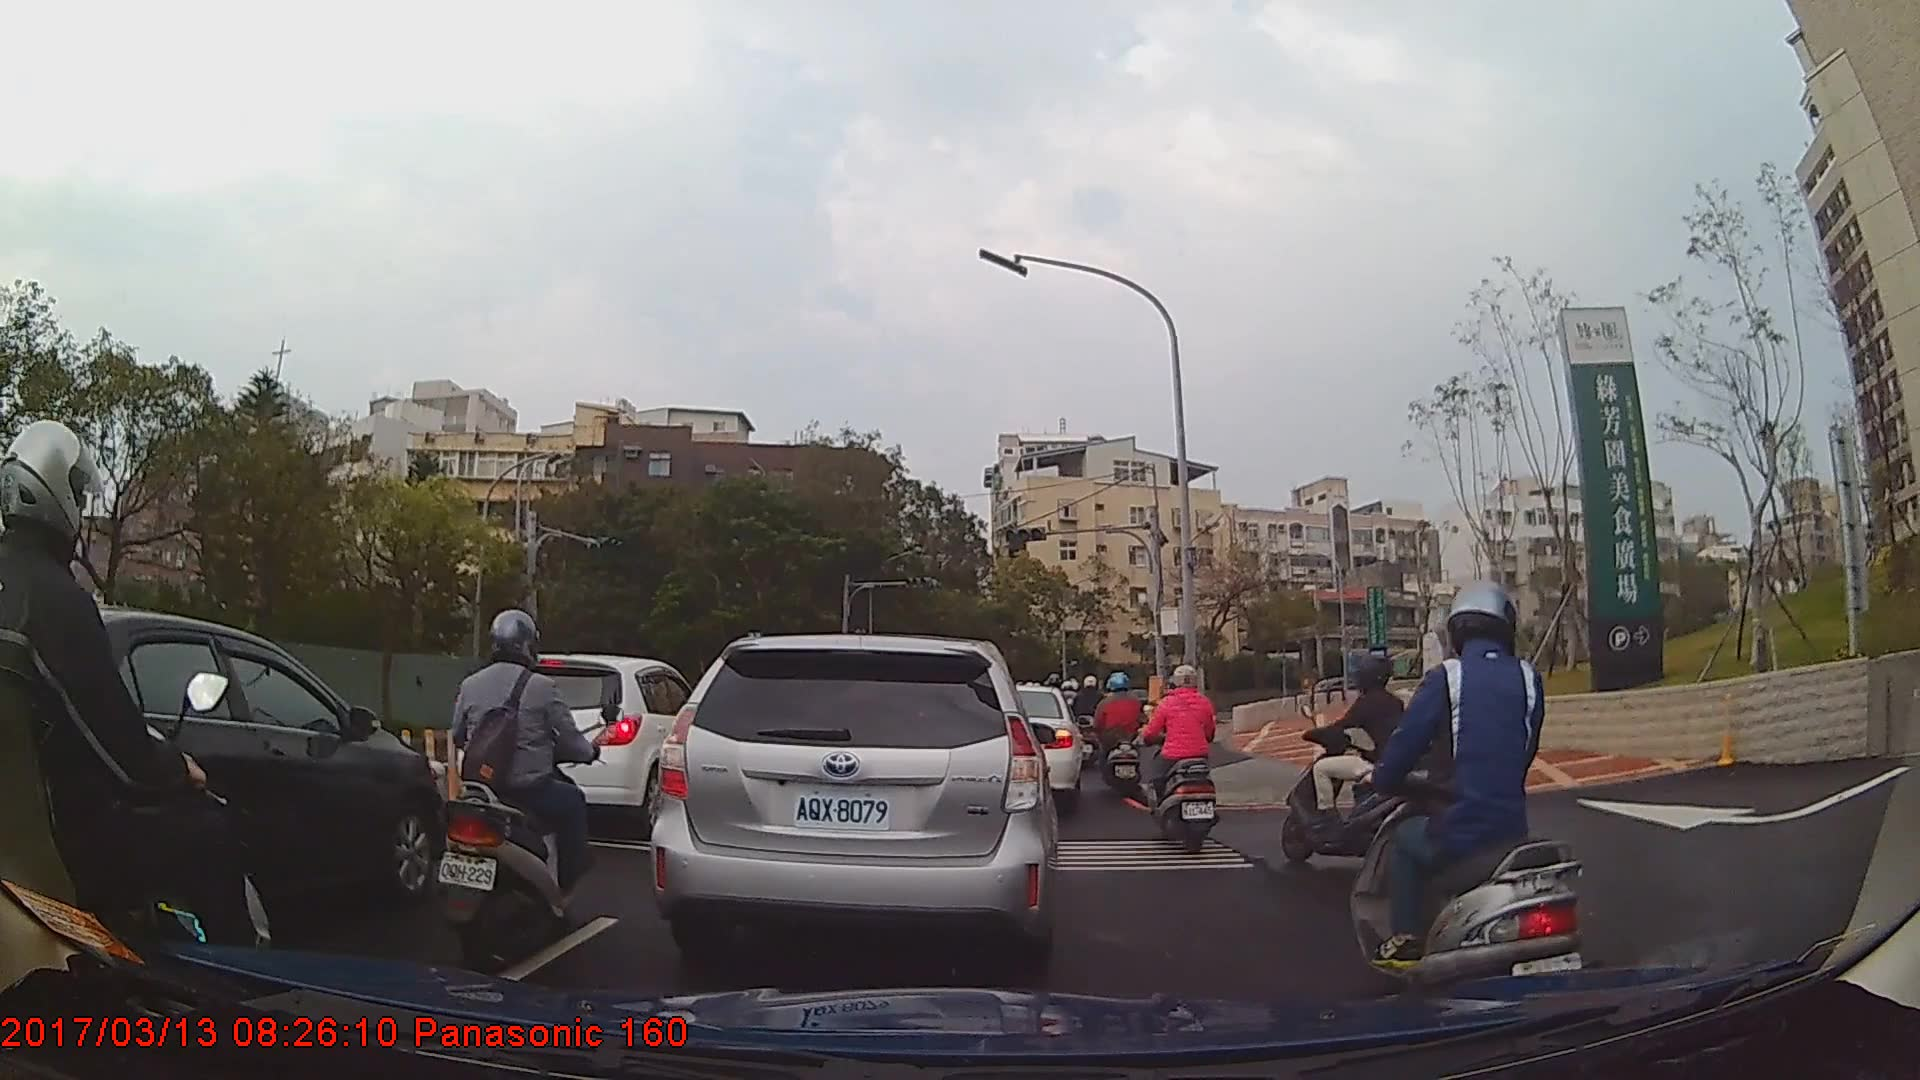rider: (1, 423, 281, 1080), (1347, 583, 1595, 1033), (433, 610, 607, 959), (1280, 655, 1467, 869), (1149, 662, 1219, 857), (1091, 668, 1148, 799), (1074, 673, 1108, 771)
vehicle: (2, 598, 450, 937), (646, 631, 1058, 987), (457, 652, 718, 837), (971, 684, 1083, 807)
